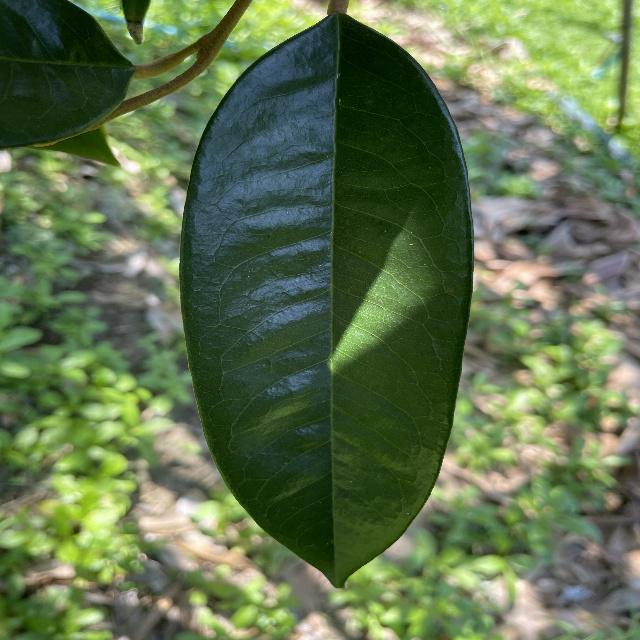No Disease: (175, 3, 481, 600)
